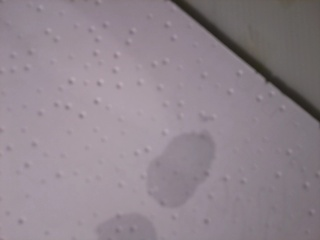Water_detected: (97, 138, 201, 240)
